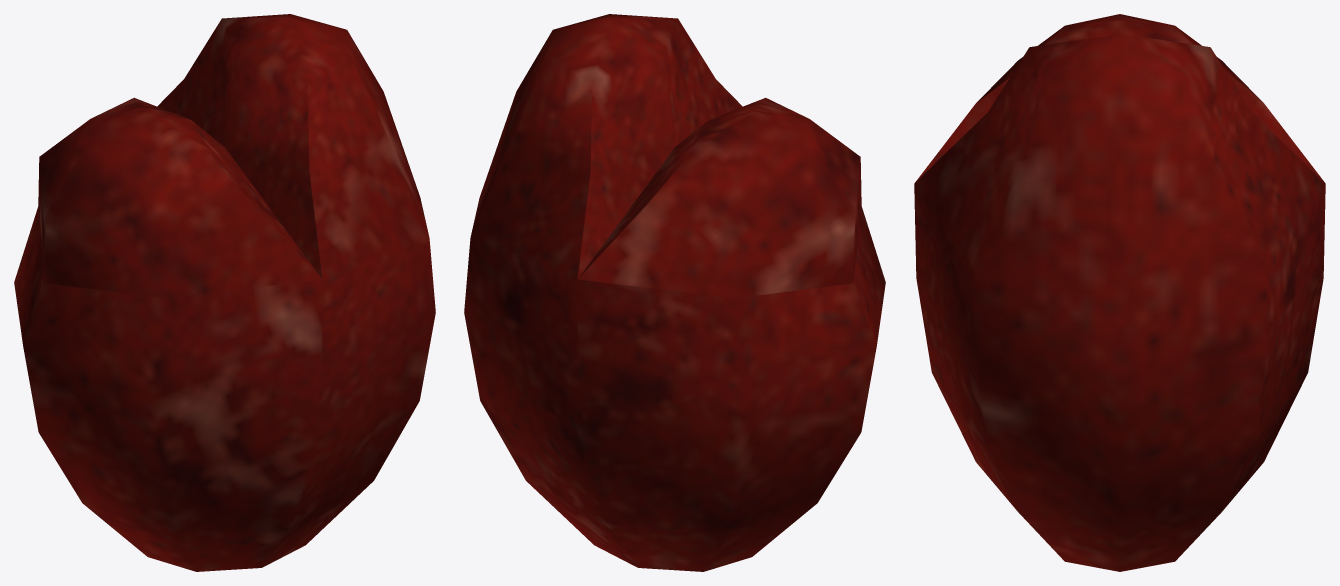
Rendered from heart.glb.
3 renders of one model, left to right at view 1: azimuth 30°, elevation 25°; view 2: azimuth 150°, elevation 25°; view 3: azimuth 270°, elevation 25°, orthographic. The views are drawn at different scales.
Visible parts, largest first — view 1: heart; view 2: heart; view 3: heart.
Part boxes in pixels (x1,y1,x2,y2): heart: (14, 14, 435, 571); heart: (464, 14, 885, 571); heart: (914, 14, 1325, 571).
Size of the model in its own units: 1.81 by 2.29 by 1.51.
Materials: 1 (1 with a texture image).
